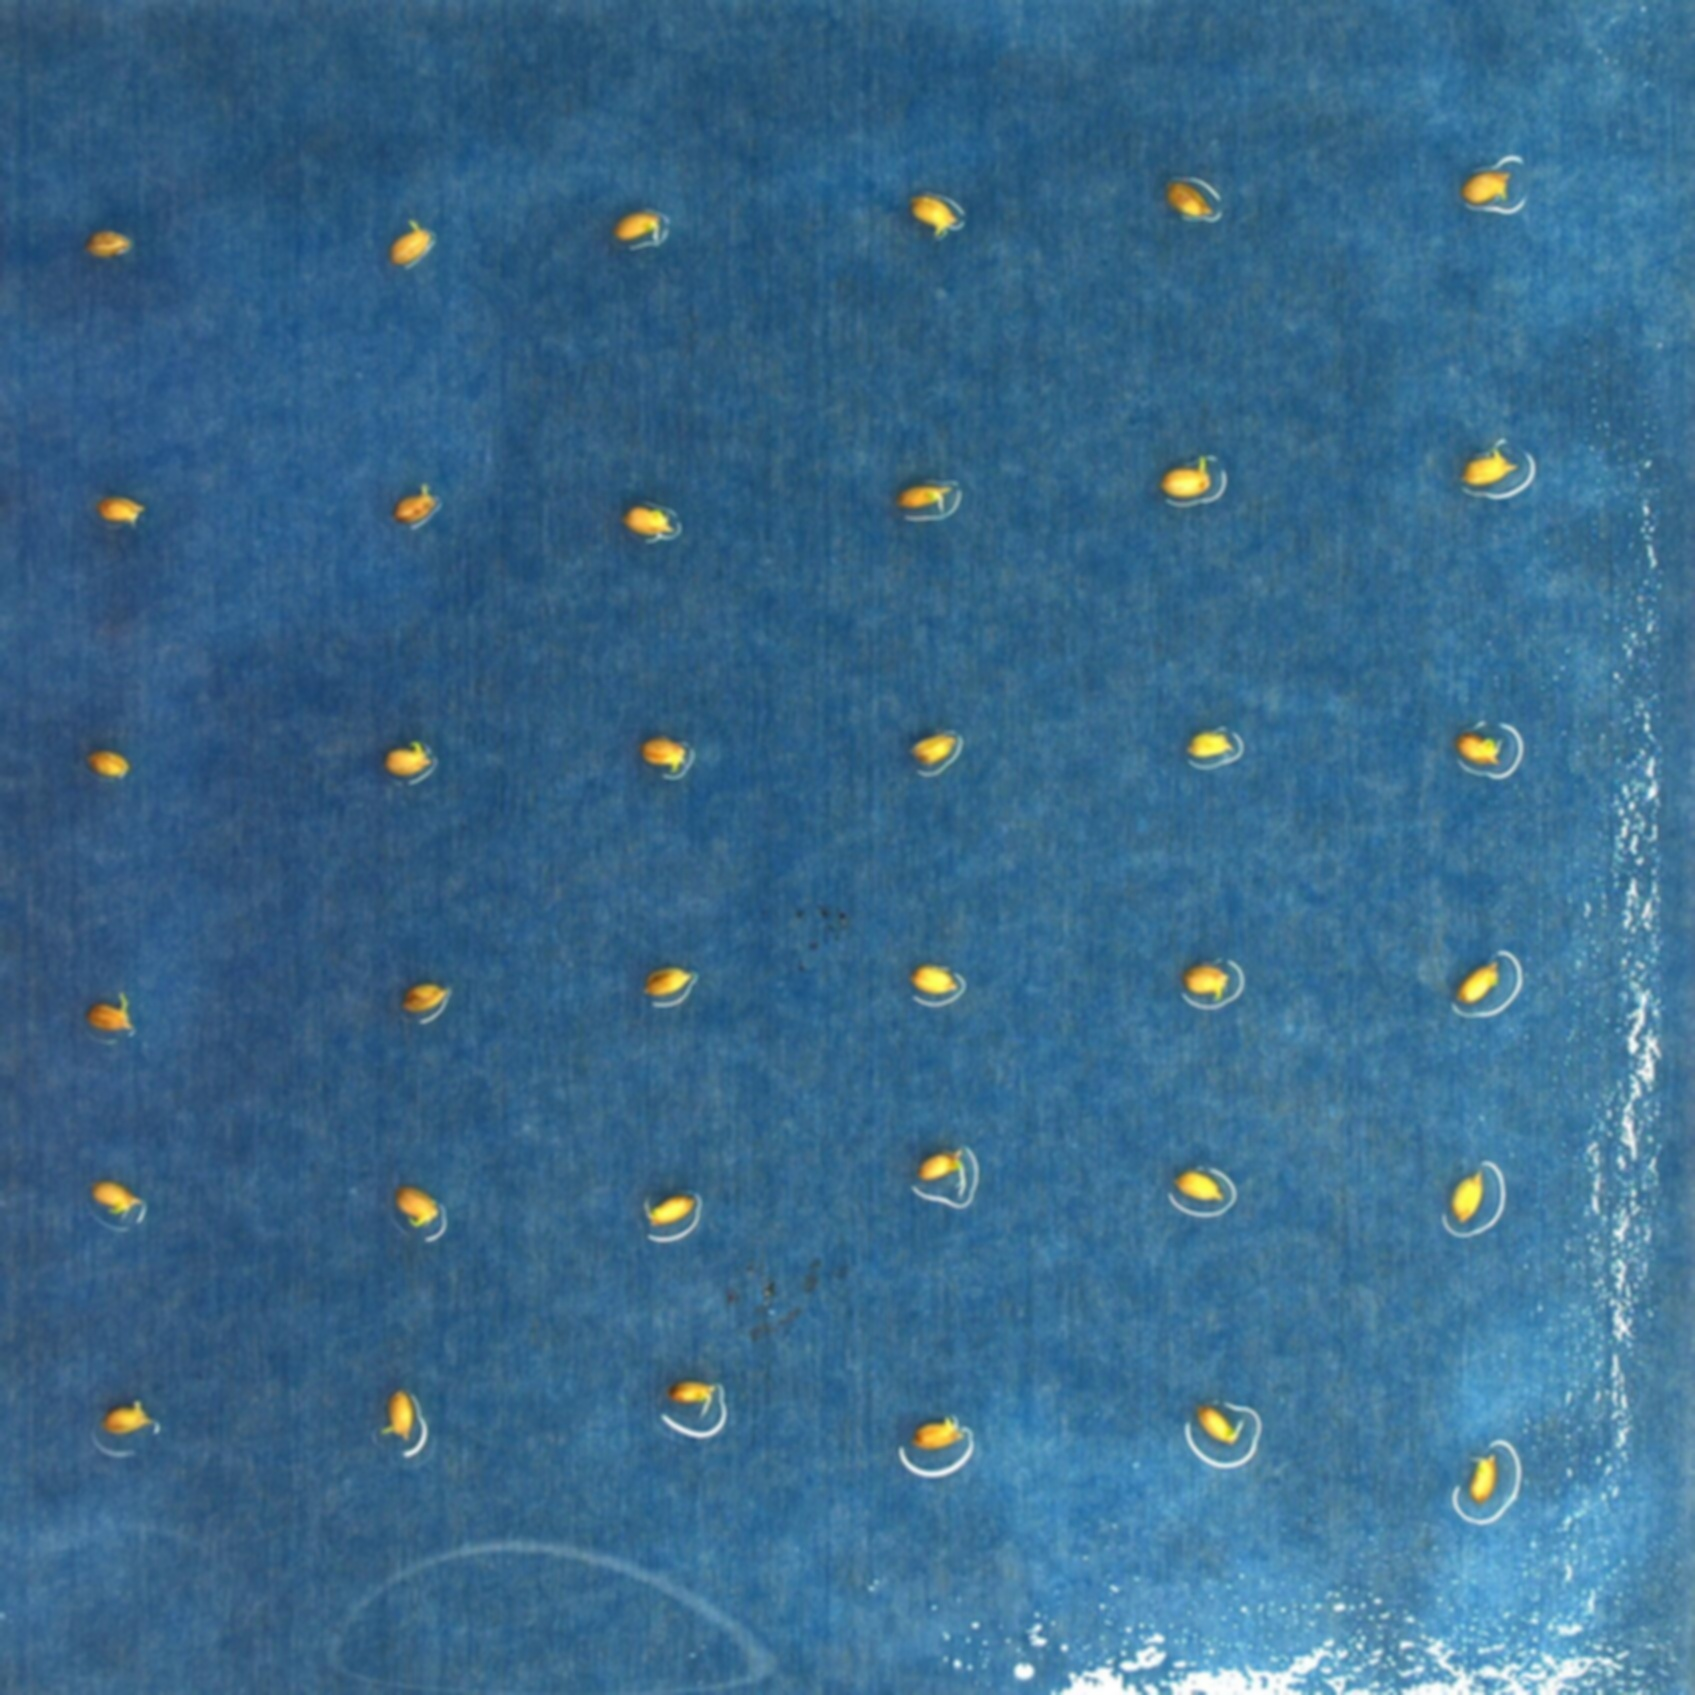not sprout: (1166, 172, 1222, 220), (1192, 1399, 1243, 1450), (913, 192, 965, 242), (916, 1146, 969, 1195), (1163, 452, 1218, 497), (669, 1378, 723, 1420), (632, 1189, 692, 1226), (1451, 956, 1499, 1003), (905, 961, 962, 1000), (1458, 725, 1509, 768), (1445, 1167, 1481, 1229), (896, 481, 955, 518), (913, 1411, 962, 1454), (636, 964, 695, 1000), (910, 730, 958, 773), (393, 1183, 442, 1225), (82, 993, 133, 1032), (92, 1183, 144, 1220), (393, 220, 438, 264), (635, 736, 686, 773), (1461, 163, 1510, 200), (1464, 450, 1513, 487), (1170, 1169, 1222, 1205), (1180, 962, 1229, 998), (380, 1389, 416, 1437), (96, 1405, 151, 1436), (404, 981, 452, 1015), (383, 742, 425, 781), (1468, 1450, 1501, 1498), (612, 213, 667, 241), (393, 487, 435, 525), (85, 227, 130, 261), (95, 498, 144, 525), (626, 501, 669, 531), (1184, 733, 1231, 759), (85, 745, 129, 773)
